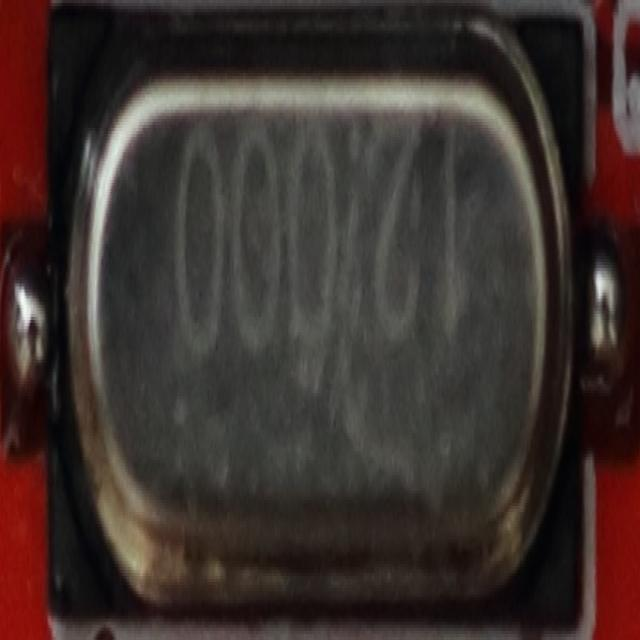clock Q1: (44, 0, 590, 640)
